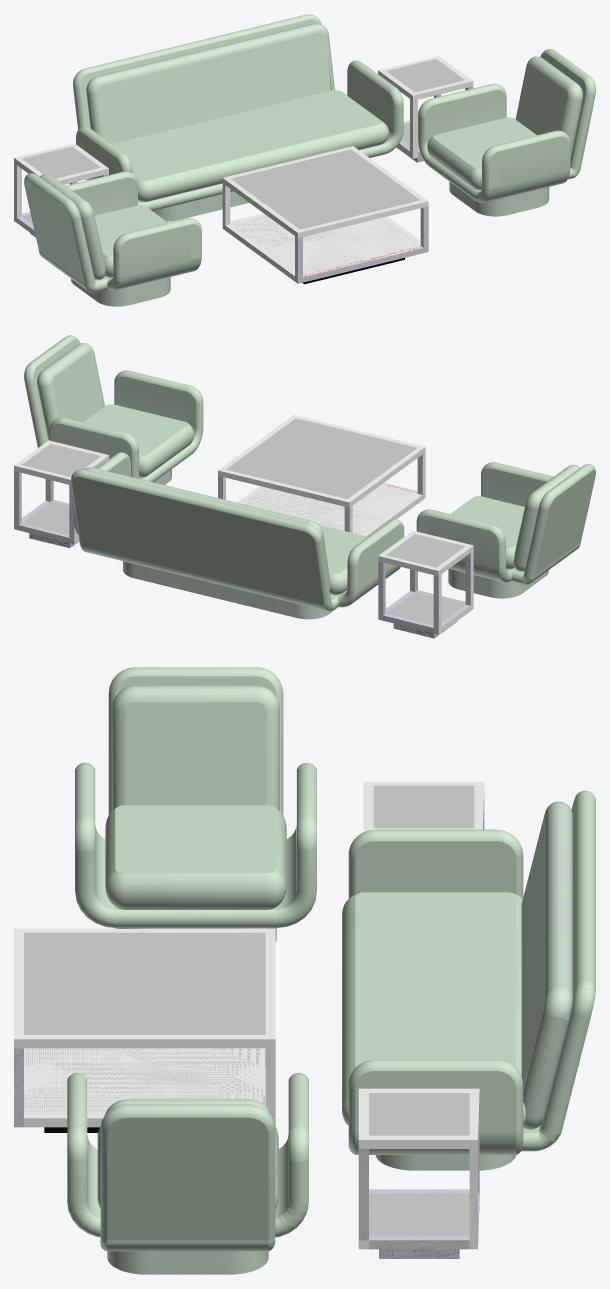
3 views of the same model, one above another, from view 1: azimuth 30°, elevation 25°; view 2: azimuth 150°, elevation 25°; view 3: azimuth 270°, elevation 25° (orthographic). The views are drawn at different scales.
Visible parts, largest first — view 1: instance_0, instance_1_001, instance_2_001, SketchUp_025, SketchUp_018, SketchUp_001, instance_0_007, instance_3_004, instance_1, instance_3_022, instance_2, instance_4_022 (+5 smaller); view 2: instance_0, instance_1_001, instance_2_001, SketchUp_025, SketchUp_001, SketchUp_018, instance_4_004, instance_0_003, instance_3_004, instance_4_022, instance_3_022, instance_2 (+4 smaller); view 3: instance_0, instance_2_001, instance_1_001, SketchUp_025, SketchUp_018, SketchUp_001, instance_0_007, instance_3_004, instance_4_022, instance_3_016, instance_3_022, instance_1 (+6 smaller).
Part boxes in pixels (bbox=[...]): instance_0: bbox=[73, 14, 403, 210]; instance_1_001: bbox=[418, 49, 595, 202]; instance_2_001: bbox=[24, 171, 201, 292]; SketchUp_025: bbox=[231, 149, 420, 229]; SketchUp_018: bbox=[231, 215, 420, 274]; SketchUp_001: bbox=[222, 146, 428, 283]; instance_0_007: bbox=[96, 23, 334, 90]; instance_3_004: bbox=[378, 56, 472, 158]; instance_1: bbox=[449, 182, 549, 216]; instance_3_022: bbox=[386, 59, 464, 92]; instance_2: bbox=[71, 277, 170, 306]; instance_4_022: bbox=[22, 146, 100, 178]; instance_0: bbox=[71, 452, 404, 617]; instance_1_001: bbox=[24, 335, 203, 482]; instance_2_001: bbox=[416, 462, 595, 584]; SketchUp_025: bbox=[226, 418, 417, 499]; SketchUp_001: bbox=[218, 415, 425, 536]; SketchUp_018: bbox=[242, 485, 417, 534]; instance_4_004: bbox=[378, 530, 473, 634]; instance_0_003: bbox=[123, 561, 338, 619]; instance_3_004: bbox=[14, 440, 109, 543]; instance_4_022: bbox=[386, 534, 464, 567]; instance_3_022: bbox=[22, 444, 100, 476]; instance_2: bbox=[448, 569, 548, 598]; instance_0: bbox=[342, 790, 595, 1154]; instance_2_001: bbox=[75, 667, 316, 927]; instance_1_001: bbox=[67, 1073, 308, 1251]; SketchUp_025: bbox=[24, 932, 265, 1034]; SketchUp_018: bbox=[24, 1048, 265, 1113]; SketchUp_001: bbox=[14, 928, 275, 1127]; instance_0_007: bbox=[523, 803, 572, 1126]; instance_3_004: bbox=[358, 1088, 479, 1249]; instance_4_022: bbox=[373, 785, 474, 828]; instance_3_016: bbox=[369, 1193, 469, 1235]; instance_3_022: bbox=[369, 1093, 469, 1135]; instance_1: bbox=[107, 1251, 268, 1274].
Size of the model in its own units: 3.99 by 2.2 by 0.8429.
